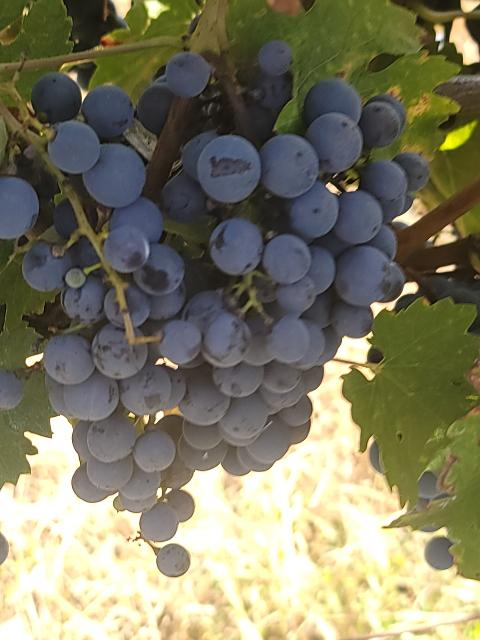grapes: (178, 79, 430, 470), (0, 71, 202, 539)
